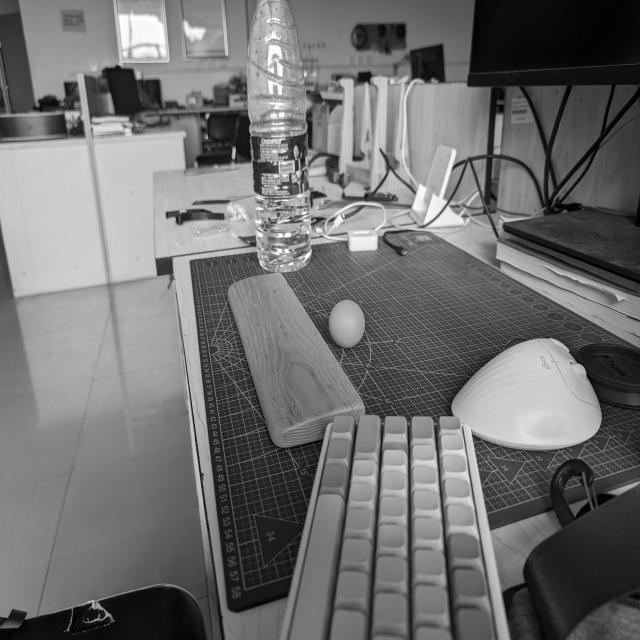ping-pong-ball: (329, 300, 366, 350)
